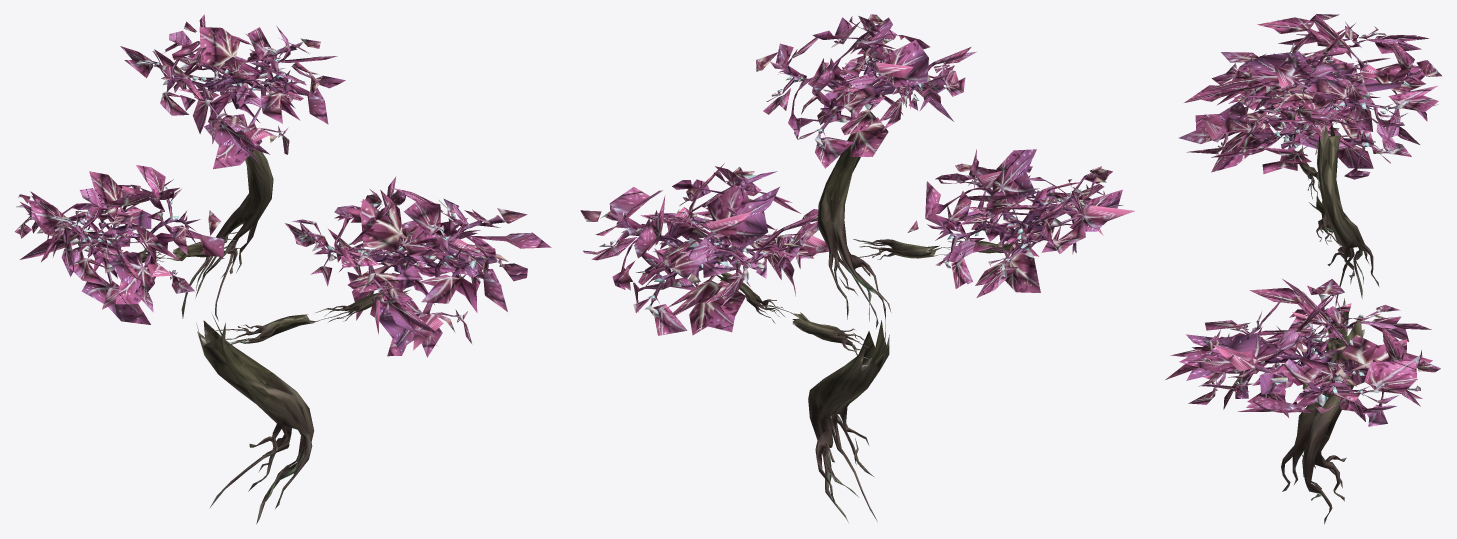
File: cloud_bonsai.glb
3 renders of one model, left to right at view 1: azimuth 30°, elevation 25°; view 2: azimuth 150°, elevation 25°; view 3: azimuth 270°, elevation 25°, orthographic. The views are drawn at different scales.
Parts seen in each view (by area): view 1: Mesh; view 2: Mesh; view 3: Mesh.
Boxes of the visible parts, bbox=[...] form: Mesh: bbox=[14, 14, 551, 524]; Mesh: bbox=[580, 14, 1134, 522]; Mesh: bbox=[1165, 14, 1441, 524].
Bounding box in the file's own units: 1.32 × 1.22 × 0.628.
1 material, 1 textured.
